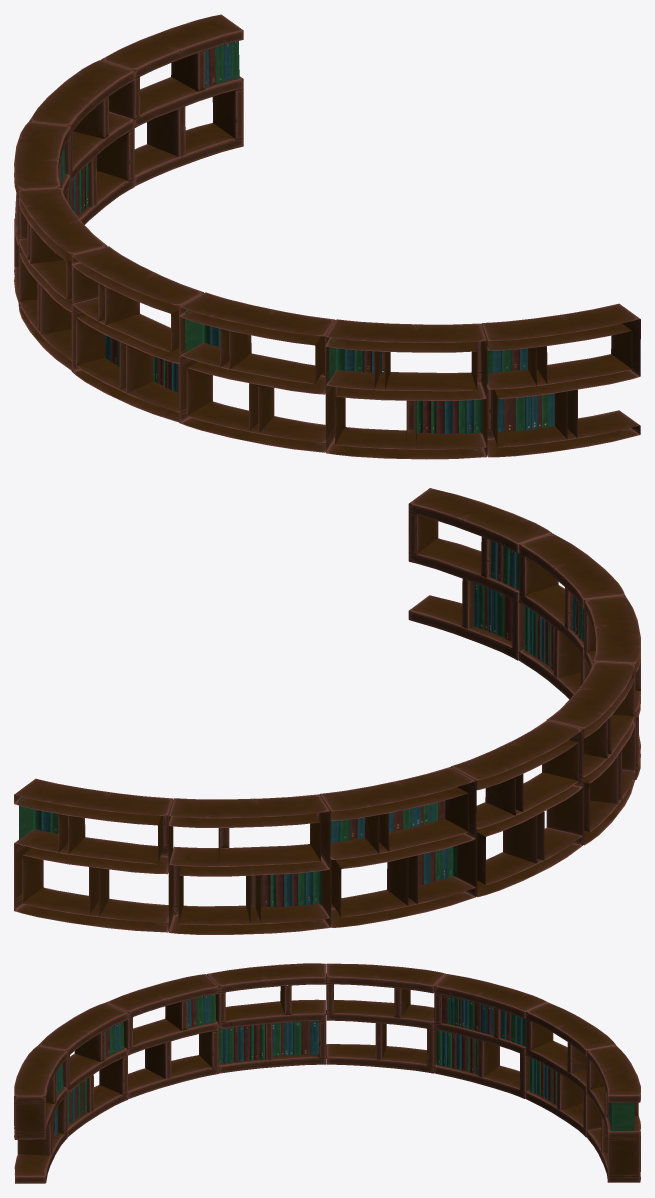
Rendered from SM_BookShelf_02_Empty.fbx.
3 views of the same model, one above another, from view 1: azimuth 30°, elevation 25°; view 2: azimuth 150°, elevation 25°; view 3: azimuth 270°, elevation 25° (orthographic). The views are drawn at different scales.
Parts seen in each view (by area): view 1: SM_BookShelf_02_Empty_LOD0; view 2: SM_BookShelf_02_Empty_LOD0; view 3: SM_BookShelf_02_Empty_LOD0.
Boxes of the visible parts, box(x1,y1,x2,y2) form: SM_BookShelf_02_Empty_LOD0: box(14, 14, 640, 459); SM_BookShelf_02_Empty_LOD0: box(14, 488, 640, 934); SM_BookShelf_02_Empty_LOD0: box(14, 963, 640, 1183).
Size of what is drawn, in the model's own units: 6.2 by 1.9 by 12.36.
